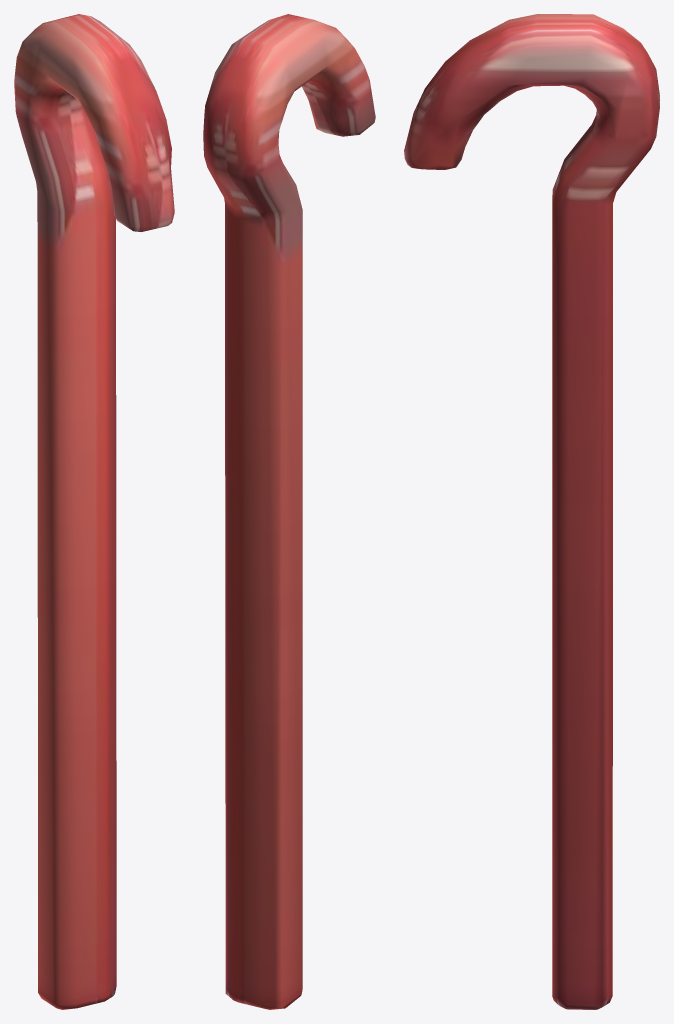
3 views of the same model, side by side, from view 1: azimuth 30°, elevation 25°; view 2: azimuth 150°, elevation 25°; view 3: azimuth 270°, elevation 25° (orthographic).
Parts seen in each view (by area): view 1: crowbar; view 2: crowbar; view 3: crowbar.
Part boxes in pixels (bbox=[...]): crowbar: bbox=[14, 14, 174, 1009]; crowbar: bbox=[203, 14, 375, 1009]; crowbar: bbox=[404, 14, 659, 1009].
Bounding box in the file's own units: 0.0408 × 0.5995 × 0.1423.
1 material, 1 textured.
